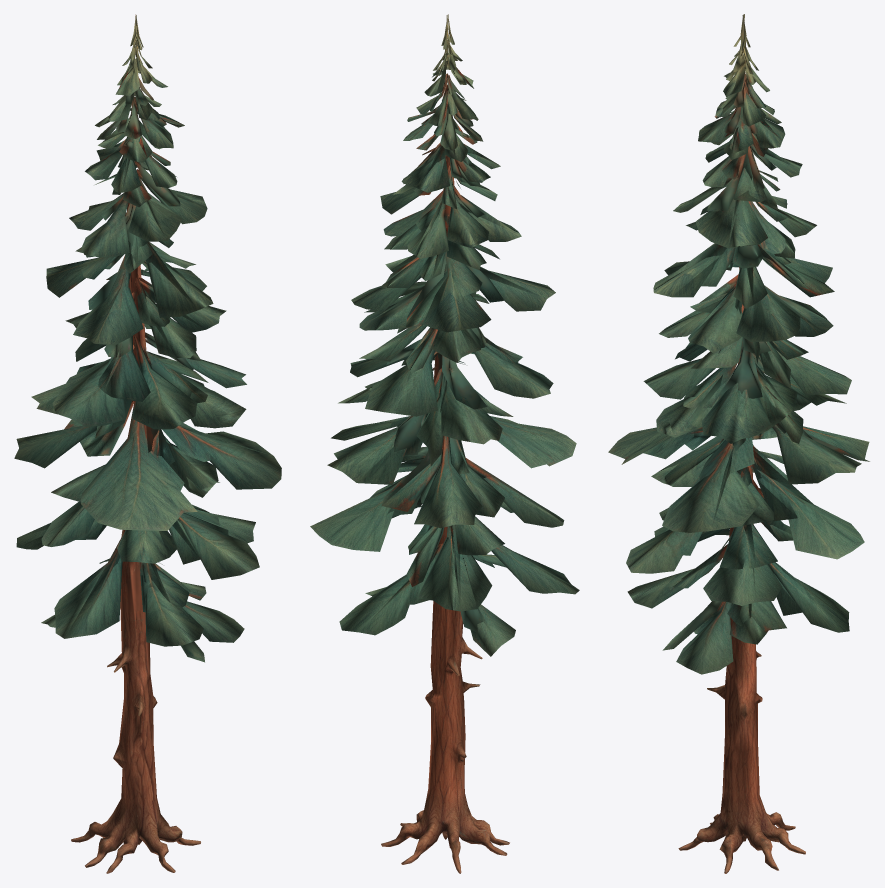
File: tree-pine.glb
3 renders of one model, left to right at view 1: azimuth 30°, elevation 25°; view 2: azimuth 150°, elevation 25°; view 3: azimuth 270°, elevation 25°, orthographic.
Visible parts, largest first — view 1: Mesh_0; view 2: Mesh_0; view 3: Mesh_0.
Part boxes in pixels (x1,y1,x2,y2): Mesh_0: (14,14,281,873); Mesh_0: (310,14,579,873); Mesh_0: (608,14,869,873).
Bounding box in the file's own units: 4.96 × 17.49 × 5.
Materials: 1 (1 with a texture image).
